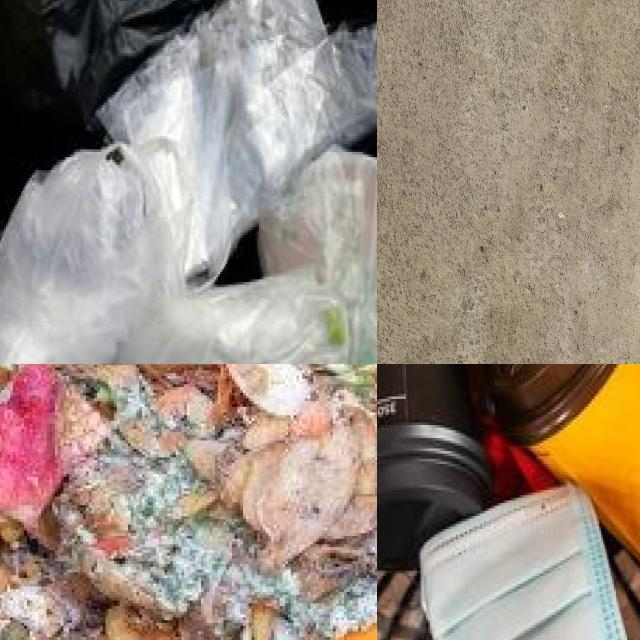Background: (377, 0, 640, 364)
Disposable: (421, 485, 625, 640)
Garbage: (0, 0, 377, 364), (0, 364, 377, 640)
Plastic_bottle: (491, 364, 640, 558), (377, 364, 491, 567)
contaminated_waste: (0, 0, 377, 364), (377, 364, 640, 577)
top_view_waste: (377, 364, 640, 640)
